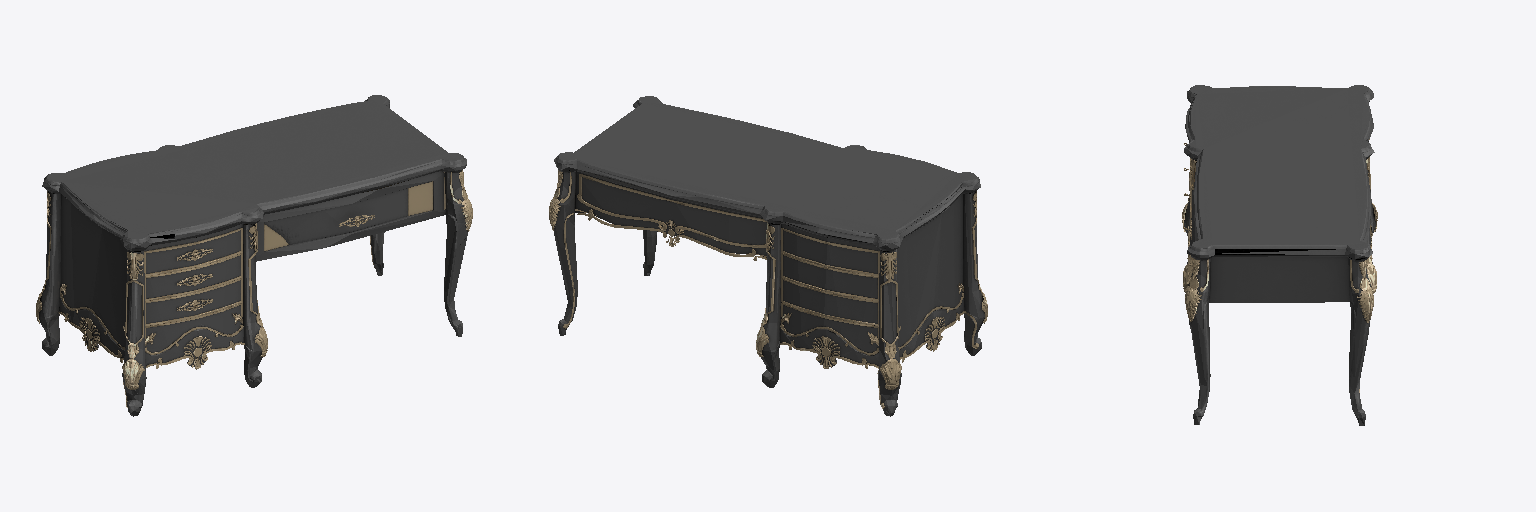
3 renders of one model, left to right at view 1: azimuth 30°, elevation 25°; view 2: azimuth 150°, elevation 25°; view 3: azimuth 270°, elevation 25°, orthographic.
Visible parts, largest first — view 1: solid_002, solid_001, solid_003; view 2: solid_002, solid_001, solid_003; view 3: solid_002, solid_001, solid_003.
Part boxes in pixels (bbox=[...]): solid_002: bbox=[39, 95, 467, 416]; solid_001: bbox=[36, 170, 472, 407]; solid_003: bbox=[42, 100, 389, 248]; solid_002: bbox=[554, 96, 984, 416]; solid_001: bbox=[549, 170, 987, 408]; solid_003: bbox=[554, 157, 980, 248]; solid_002: bbox=[1184, 85, 1375, 425]; solid_001: bbox=[1182, 139, 1377, 392]; solid_003: bbox=[1187, 90, 1374, 259].
Bounding box in the file's own units: 1.64 × 0.7935 × 0.7909.
1 materials, 1 textured.